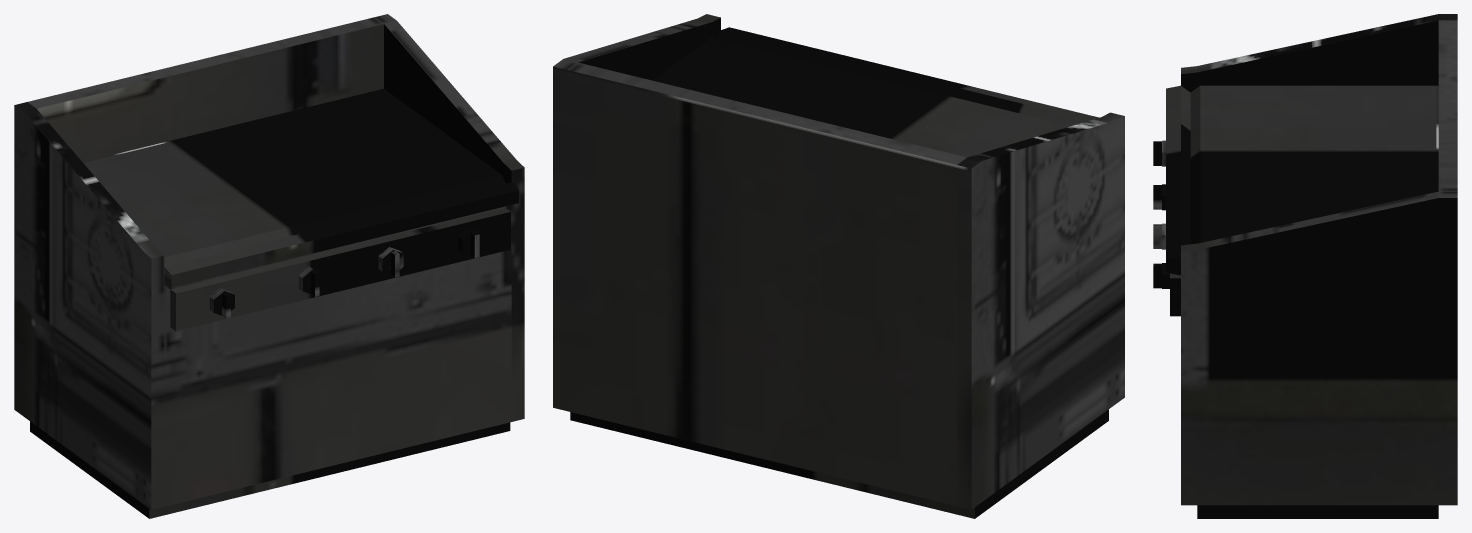
Rendered from Stove.fbx.
The picture shows the model from 3 angles, left to right: view 1: azimuth 30°, elevation 25°; view 2: azimuth 150°, elevation 25°; view 3: azimuth 270°, elevation 25°; orthographic projection. The views are drawn at different scales.
Visible parts, largest first — view 1: Stove.001; view 2: Stove.001; view 3: Stove.001.
Boxes of the visible parts, x1=… form: Stove.001: x1=14, y1=14, x2=524, y2=518; Stove.001: x1=553, y1=14, x2=1124, y2=518; Stove.001: x1=1153, y1=14, x2=1457, y2=518.
Size of the model in its own units: 172 by 141 by 120.
